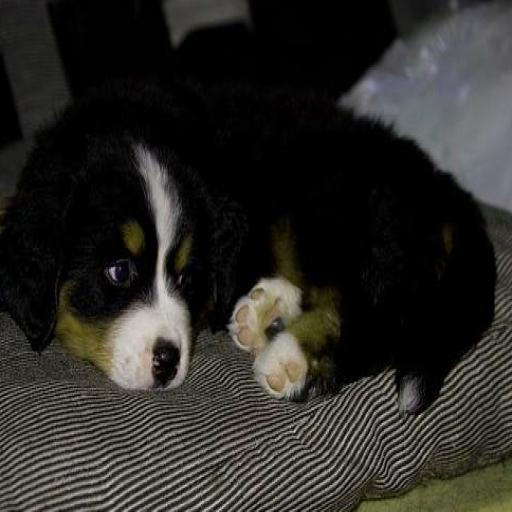dog_face: (39, 136, 211, 386)
